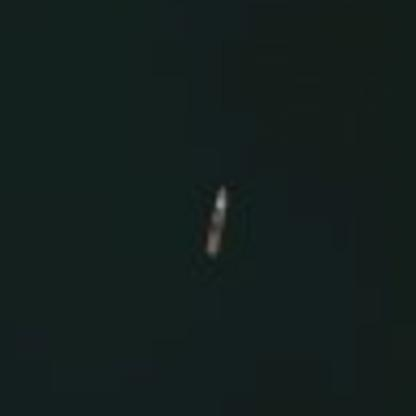ship: (197, 178, 235, 265)
